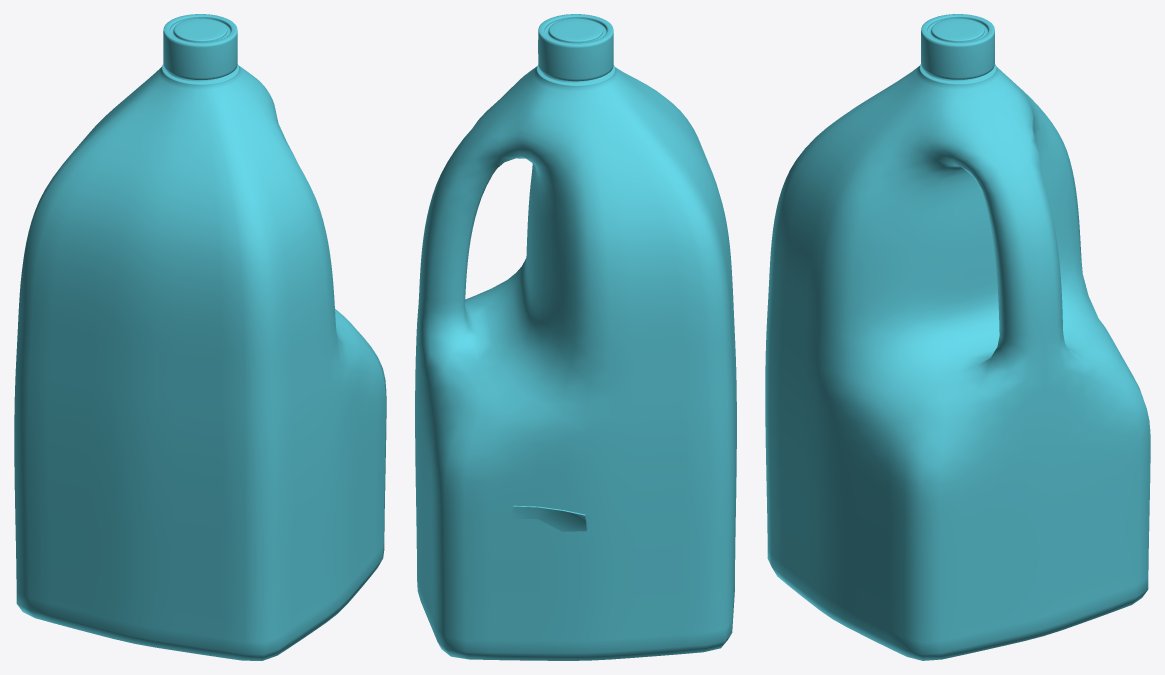
Rendered from klortox.fbx.
3 views of the same model, side by side, from view 1: azimuth 30°, elevation 25°; view 2: azimuth 150°, elevation 25°; view 3: azimuth 270°, elevation 25° (orthographic). The views are drawn at different scales.
Parts seen in each view (by area): view 1: Klortox; view 2: Klortox; view 3: Klortox.
Part boxes in pixels (x1,y1,x2,y2): Klortox: (14,14,386,660); Klortox: (415,14,736,660); Klortox: (765,14,1150,660).
Bounding box in the file's own units: 0.1692 × 0.2698 × 0.1692.
